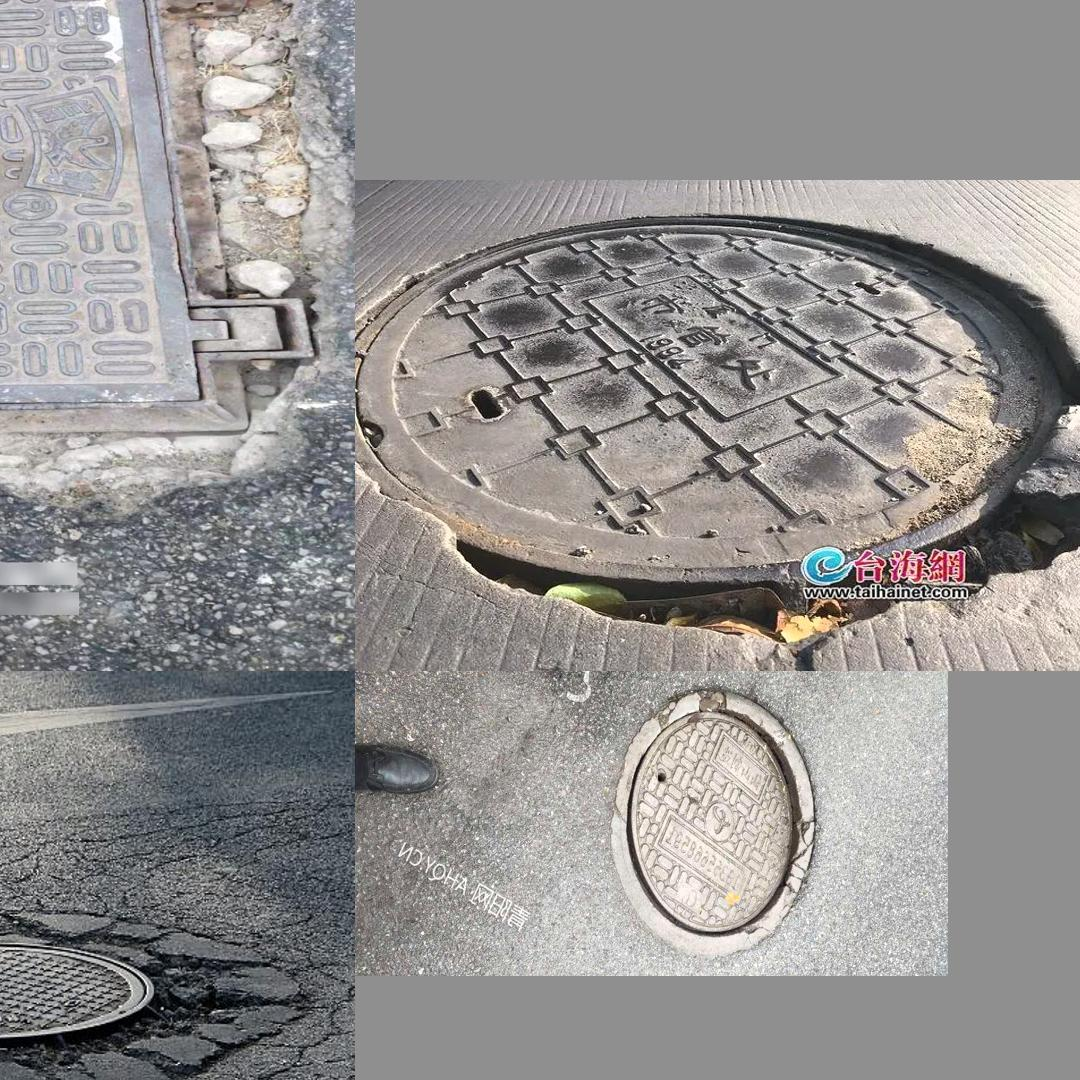circle: (374, 211, 1080, 649), (0, 0, 324, 473), (593, 683, 851, 964), (0, 903, 246, 1080)
